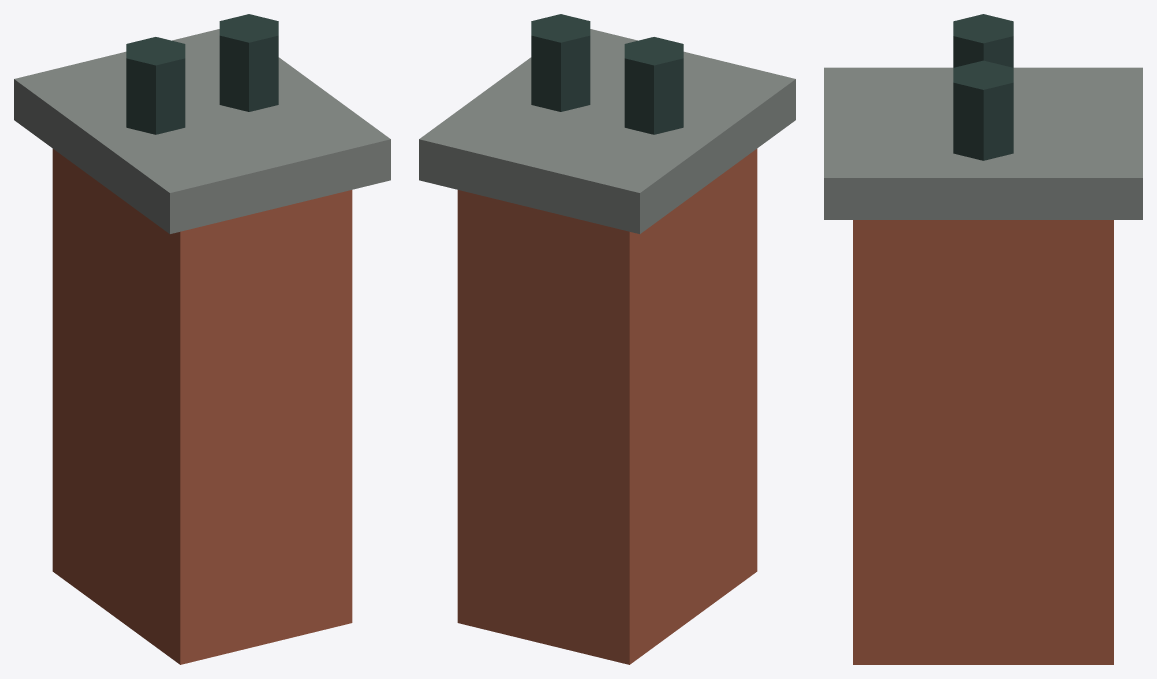
File: ChimneyStack.obj
3 views of the same model, side by side, from view 1: azimuth 30°, elevation 25°; view 2: azimuth 150°, elevation 25°; view 3: azimuth 270°, elevation 25° (orthographic). The views are drawn at different scales.
Visible parts, largest first — view 1: ChimneyStack; view 2: ChimneyStack; view 3: ChimneyStack.
Boxes of the visible parts, bbox=[...] form: ChimneyStack: bbox=[14, 14, 390, 664]; ChimneyStack: bbox=[419, 14, 795, 664]; ChimneyStack: bbox=[824, 14, 1142, 664].
Size of the model in its own units: 0.9 by 2.17 by 1.1.
1 material, 1 textured.
